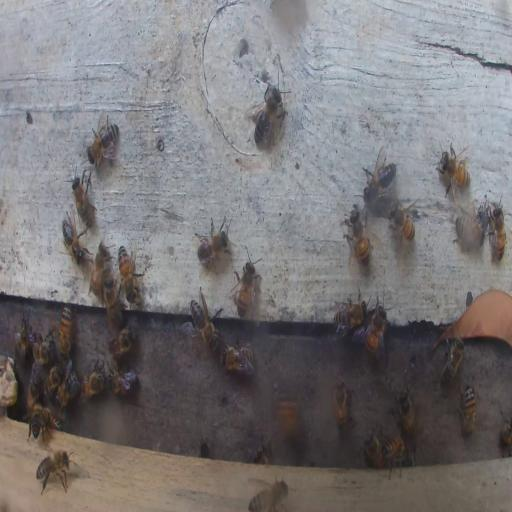bee: (249, 78, 286, 149), (231, 246, 260, 320), (436, 138, 471, 197), (194, 214, 232, 268), (361, 149, 396, 203), (87, 113, 119, 172), (189, 291, 220, 348), (35, 448, 71, 494), (61, 210, 89, 265), (70, 170, 95, 230), (332, 294, 368, 333), (347, 203, 371, 261), (388, 199, 418, 243), (277, 390, 302, 442), (250, 478, 288, 511), (394, 382, 416, 438), (382, 432, 410, 476), (366, 304, 388, 358), (118, 243, 138, 301), (221, 342, 255, 376), (440, 337, 464, 385), (454, 214, 484, 252), (102, 279, 124, 330), (488, 202, 506, 264), (459, 381, 477, 437), (89, 242, 107, 298), (29, 408, 65, 435), (57, 304, 73, 360), (333, 377, 350, 429), (80, 367, 106, 400), (107, 368, 138, 394), (57, 368, 78, 406), (108, 328, 133, 359), (15, 316, 31, 363), (364, 428, 382, 466), (31, 336, 55, 364), (45, 363, 64, 398), (433, 328, 459, 353), (500, 410, 512, 452), (28, 372, 40, 411)
